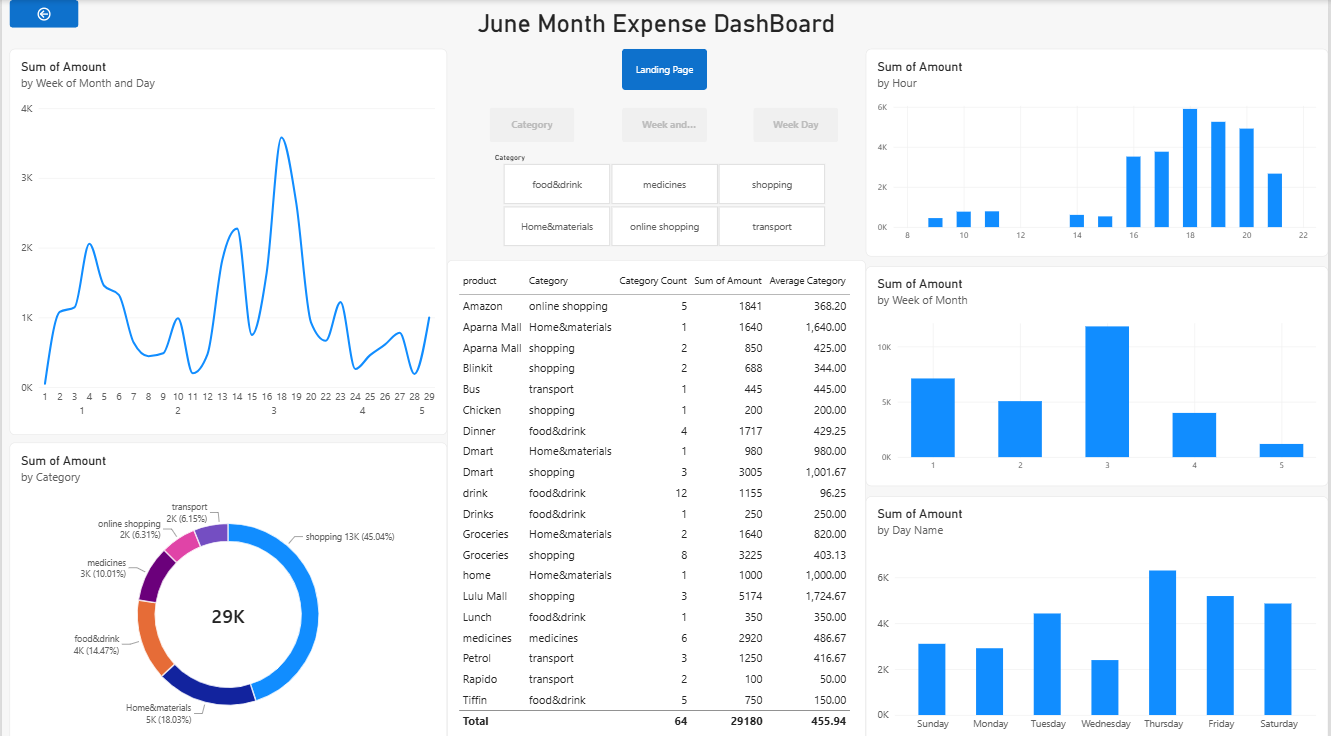

The page's visual inventory and layout, read from the dashboard file:
{"tool":"powerbi","page":{"name":"DashBoard","canvas":[1920,1080],"ordinal":5},"visuals":[{"type":"lineChart","fields":{"Category":["cal_date.Week of Month","cal_date.Exp_details.date.Variation.Date Hierarchy.Day"],"Y":["Sum(Exp_details.Amount)"]},"box":[10.9,70.6,633.4,559.2],"z":0},{"type":"donutChart","fields":{"Category":["Exp_details.Category"],"Y":["Sum(Exp_details.Amount)"]},"box":[10.9,640.6,633.4,439.7],"z":1000},{"type":"clusteredColumnChart","fields":{"Category":["cal_date.Hour"],"Y":["Sum(Exp_details.Amount)"]},"box":[1250.5,70.6,669.6,300.4],"z":2000},{"type":"clusteredColumnChart","fields":{"Category":["cal_date.Day Name"],"Y":["Sum(Exp_details.Amount)"]},"box":[1250.5,718.4,669.6,361.9],"z":3000},{"type":"actionButton","box":[10.9,0,100,40],"z":4000},{"type":"clusteredColumnChart","fields":{"Category":["cal_date.Week of Month"],"Y":["Sum(Exp_details.Amount)"]},"box":[1250.5,385.5,669.6,318.5],"z":5000},{"type":"tableEx","fields":{"Values":["Exp_details.product","Exp_details.Category","Exp_details.Category Count","Sum(Exp_details.Amount)","Exp_details.Average Category"]},"box":[644.2,376.4,606.2,704],"z":6000},{"type":"actionButton","box":[897.6,70.6,123.1,59.7],"z":7000},{"type":"actionButton","box":[705.8,155.6,123.1,50.7],"z":8000},{"type":"actionButton","box":[897.6,155.6,123.1,50.7],"z":9000},{"type":"actionButton","box":[1087.6,155.6,123.1,50.7],"z":10000},{"type":"slicer","fields":{"Values":["Exp_details.Category"]},"box":[705.8,220.8,504.9,137.5],"z":11000},{"type":"textbox","title":"June Month Expense DashBoard","box":[644.2,12.7,606.2,50.7],"z":12000}]}

Visuals, with their boxes in screenshot pixels (x1, y1, x2, y2), scaled from the page's 1920x1080 canvas onto the 1331x736 screenshot:
lineChart - cal_date.Week of Month x cal_date.Exp_details.date.Variation.Date Hierarchy.Day: [x1=8, y1=48, x2=447, y2=429]
donutChart - Exp_details.Category x Sum(Exp_details.Amount): [x1=8, y1=437, x2=447, y2=735]
clusteredColumnChart - cal_date.Hour x Sum(Exp_details.Amount): [x1=867, y1=48, x2=1330, y2=253]
clusteredColumnChart - cal_date.Day Name x Sum(Exp_details.Amount): [x1=867, y1=490, x2=1330, y2=735]
actionButton: [x1=8, y1=0, x2=77, y2=27]
clusteredColumnChart - cal_date.Week of Month x Sum(Exp_details.Amount): [x1=867, y1=263, x2=1330, y2=480]
tableEx - Exp_details.product x Exp_details.Category: [x1=447, y1=257, x2=867, y2=735]
actionButton: [x1=622, y1=48, x2=708, y2=89]
actionButton: [x1=489, y1=106, x2=575, y2=141]
actionButton: [x1=622, y1=106, x2=708, y2=141]
actionButton: [x1=754, y1=106, x2=839, y2=141]
slicer - Exp_details.Category: [x1=489, y1=150, x2=839, y2=244]
"June Month Expense DashBoard" textbox: [x1=447, y1=9, x2=867, y2=43]
